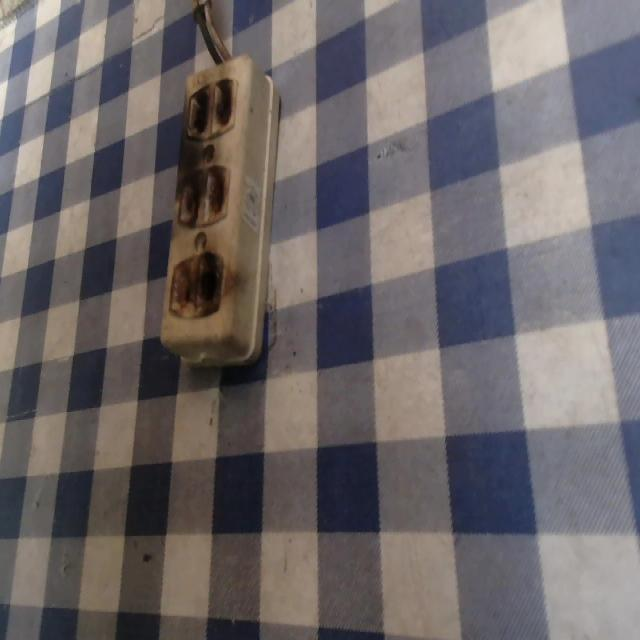-: (166, 248, 223, 319), (172, 162, 234, 226), (183, 74, 239, 138)
